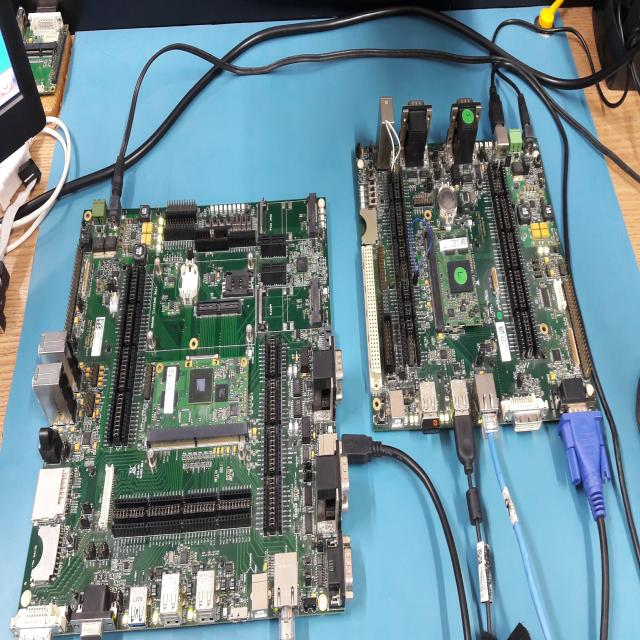som: (147, 360, 249, 438), (427, 224, 490, 335)
